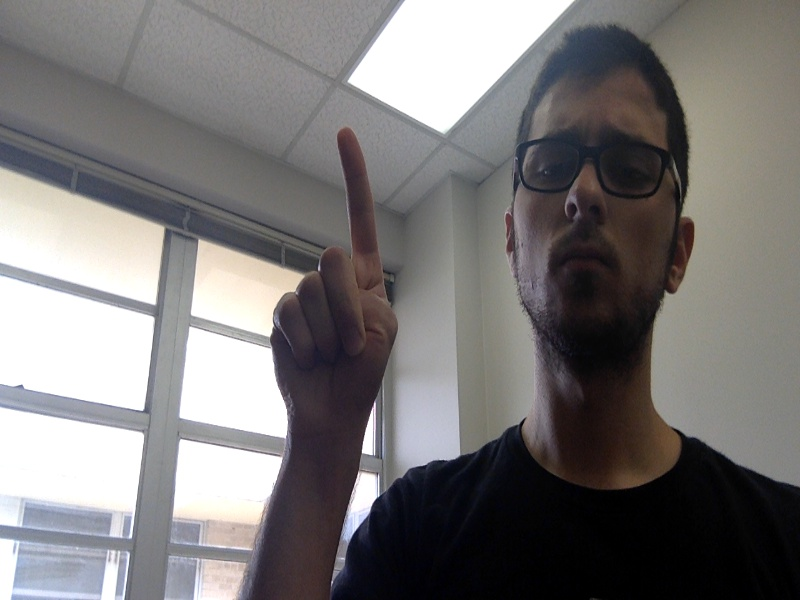1-hand: (272, 128, 397, 427)
